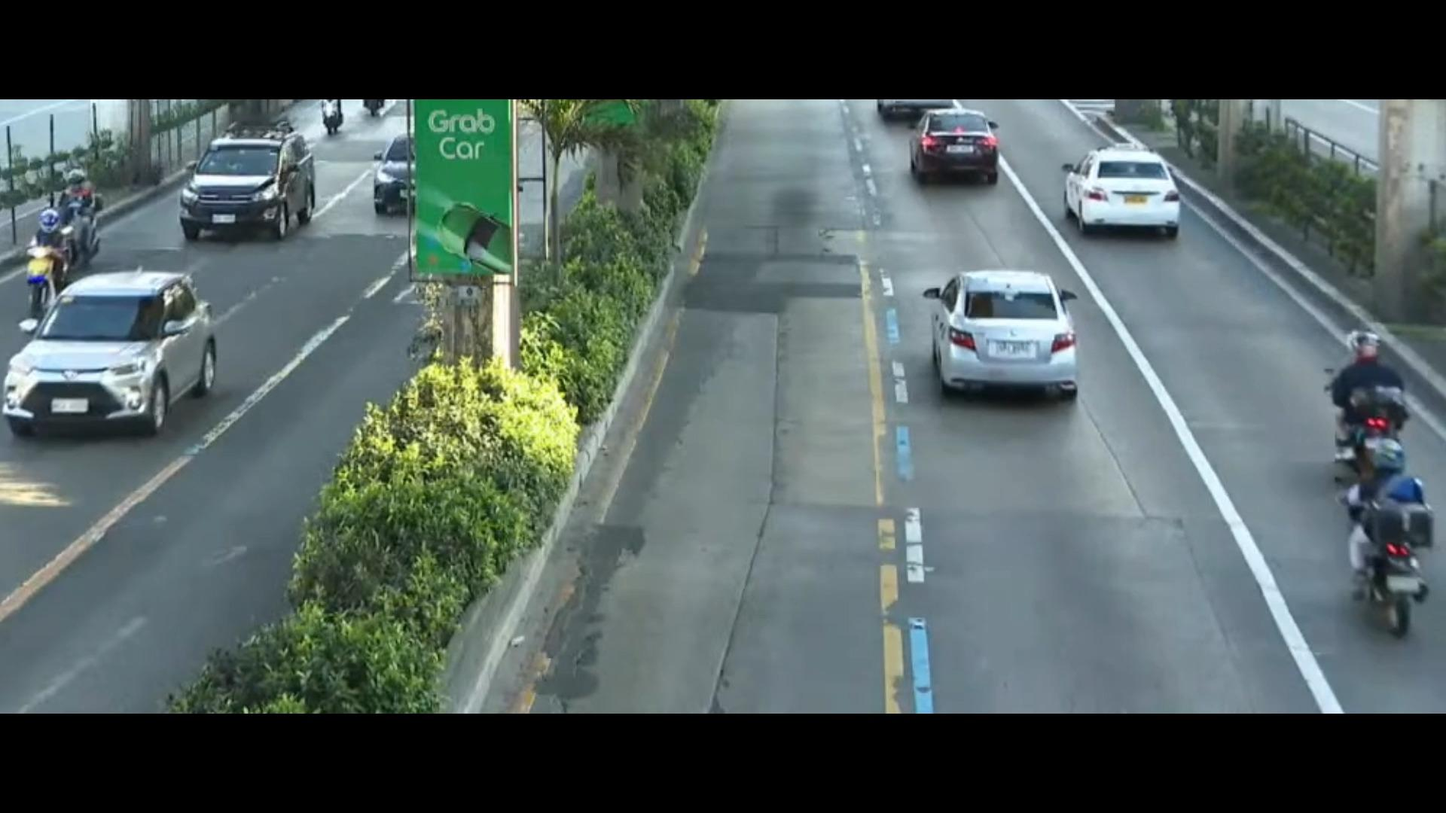Motorcycle: (1306, 425, 1446, 635), (1309, 337, 1436, 472), (55, 154, 134, 286), (0, 194, 81, 320)
SUV: (1, 254, 221, 446), (157, 121, 327, 268)
Sedan: (913, 255, 1087, 418), (1029, 133, 1207, 254), (901, 96, 1020, 196), (367, 126, 417, 212)
